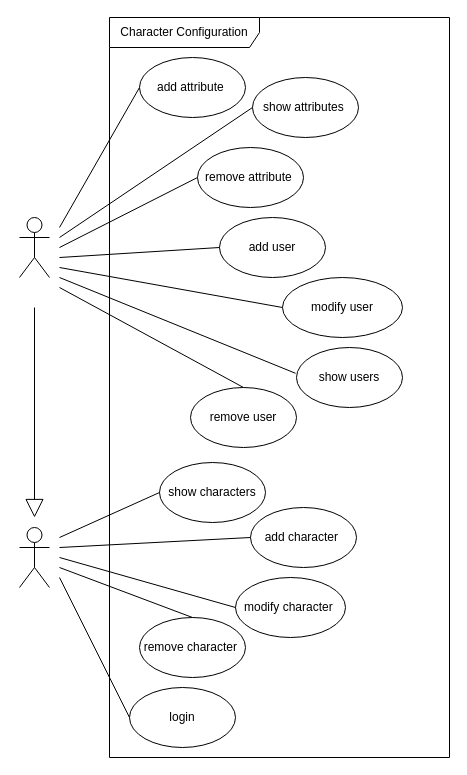
Image size: 467x775. Some labels were removed from this diagram. The shapes that lost their labels are listed below. From the top down, each one's box as (x1, y1, x2, y2) in pixels, then its label:
(18, 216, 50, 278): Admin
(18, 526, 50, 588): User
